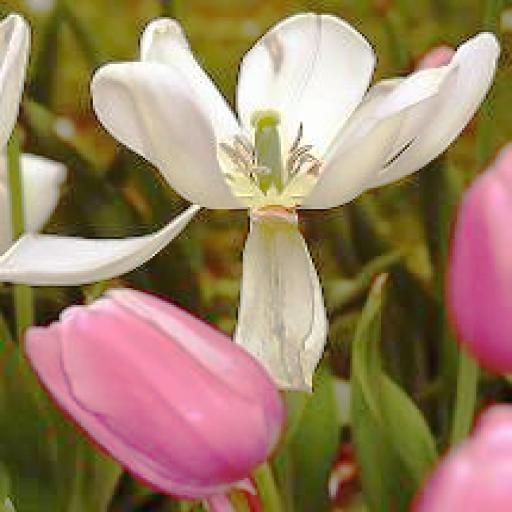tulip: (95, 13, 500, 386), (26, 290, 286, 495)
